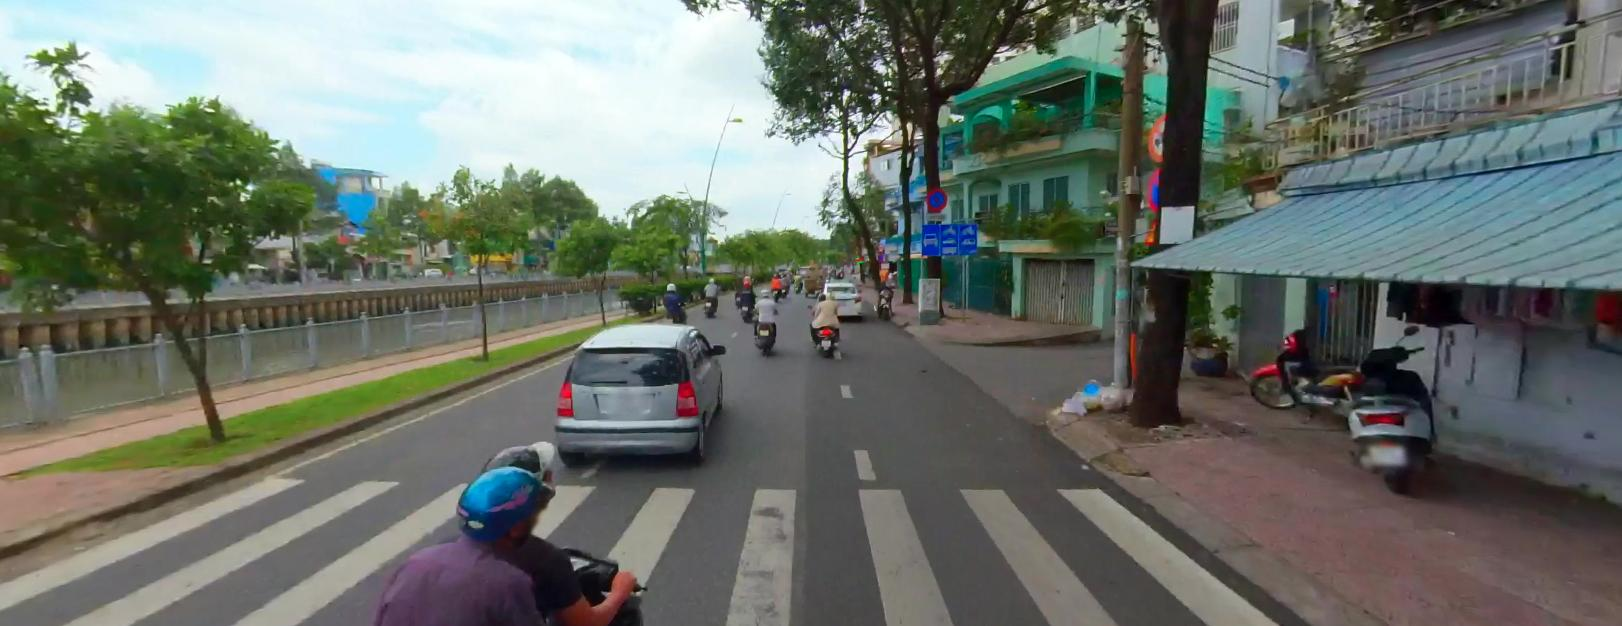Cam con lai: (1148, 112, 1179, 160)
Cam dung va do: (1146, 163, 1182, 214), (926, 187, 947, 209)
